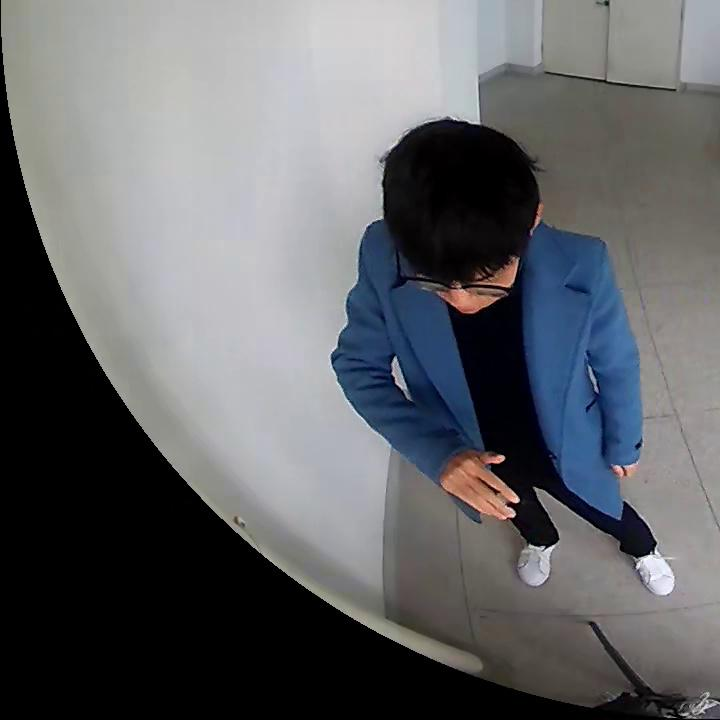handsmoke: (445, 452, 521, 518)
handwithoutsmoke: (603, 457, 641, 483)
mouthwithoutsmoke: (378, 128, 545, 317)
